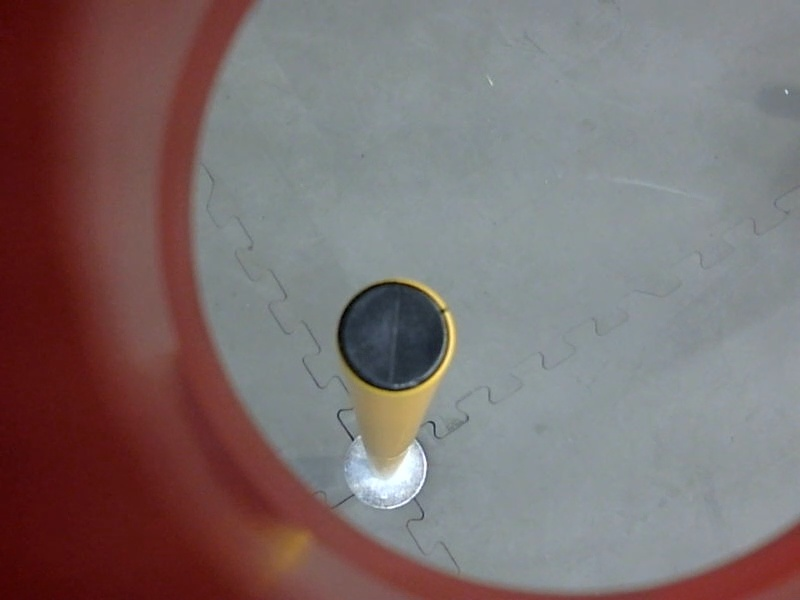tip: (331, 273, 461, 400)
